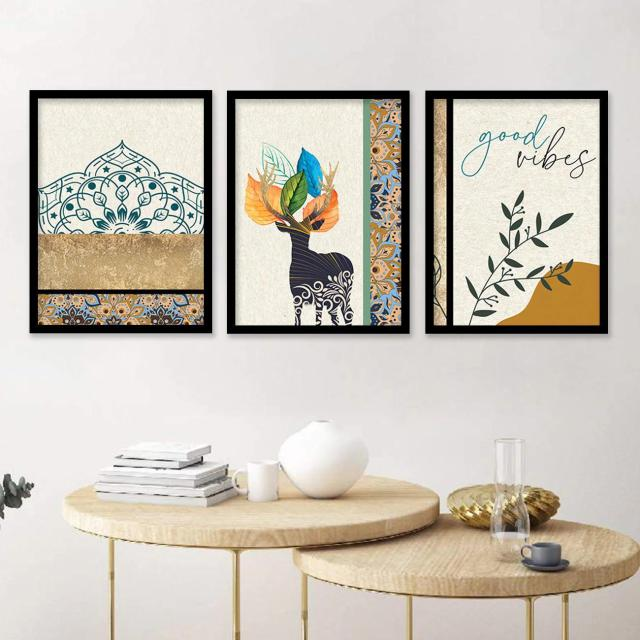painting: (226, 91, 409, 336), (426, 91, 609, 336), (29, 88, 212, 332)
